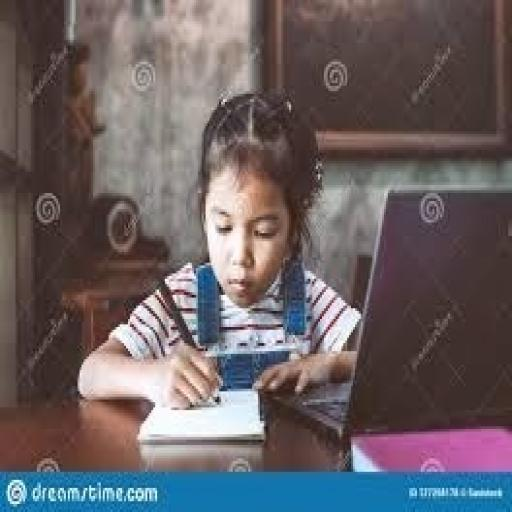using_laptop: (266, 182, 510, 440)
